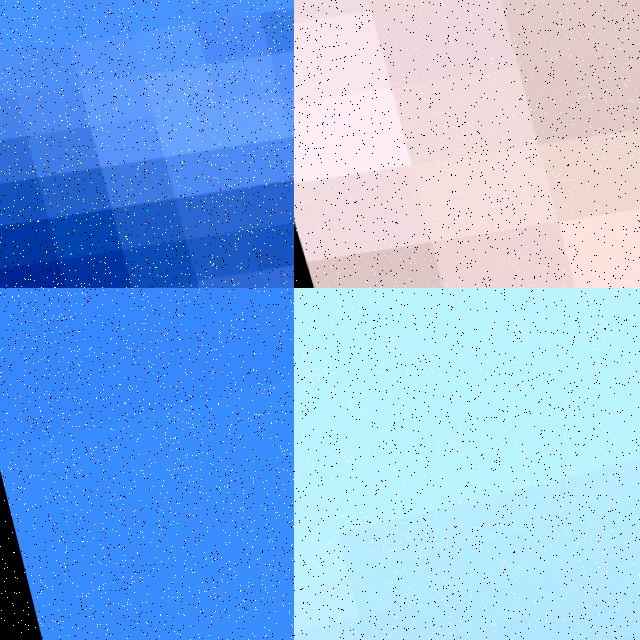0: (0, 0, 294, 288)
drone: (294, 0, 640, 288)
